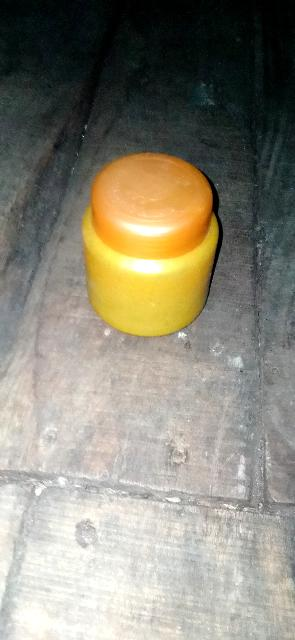hardplastic: (51, 134, 233, 358)
